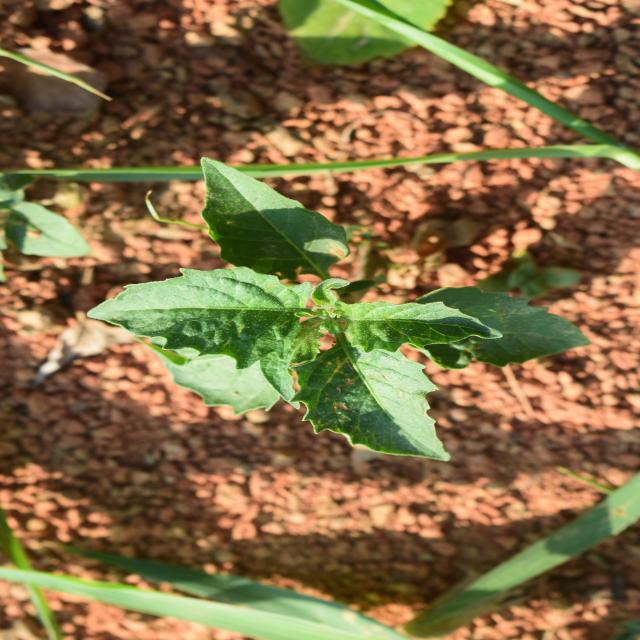Black_nightshade: (176, 115, 481, 548)
